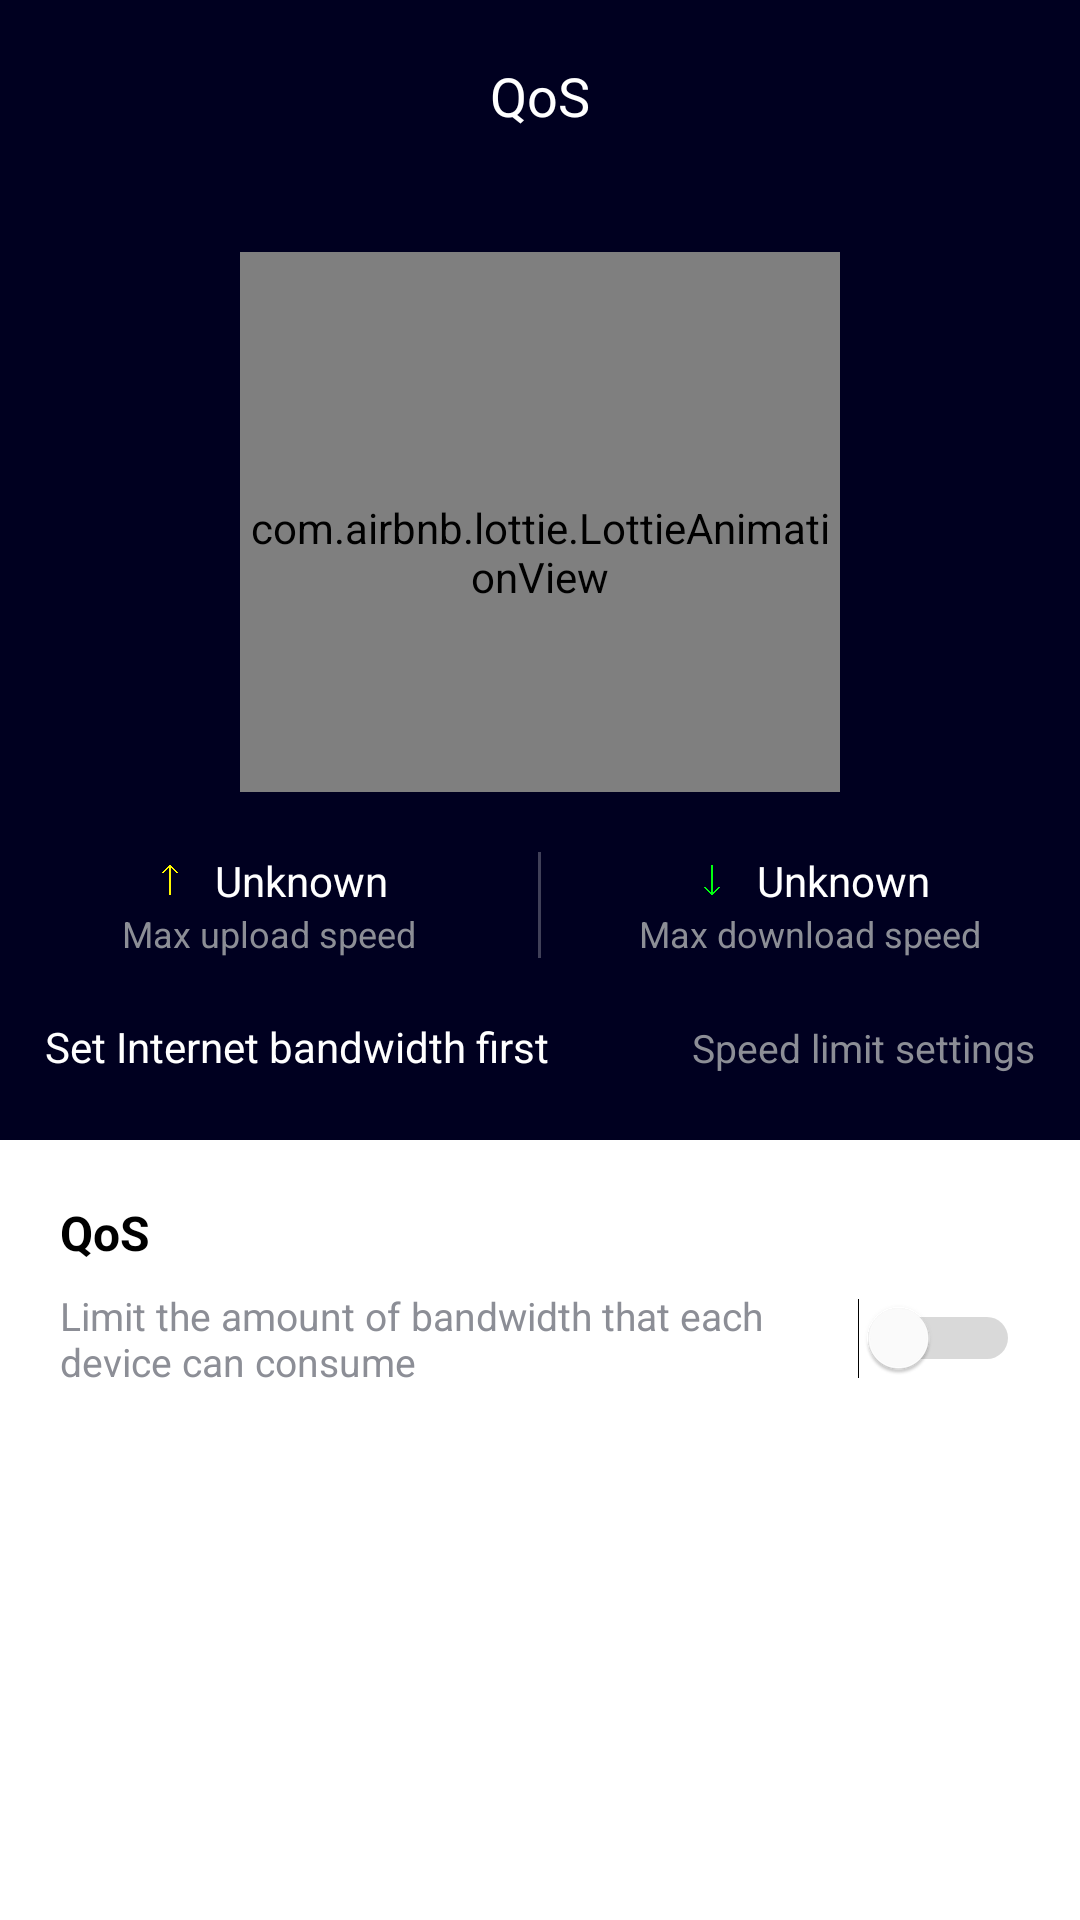

Named icons in this screenshot (1080×1920) and their bounding boxes, (x1, y1, x2, y2):
down arrow: (704, 865, 720, 895)
up arrow: (162, 865, 178, 895)
